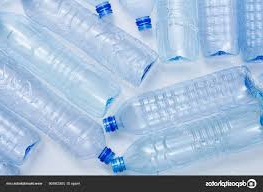plastic water bottle: (1, 1, 159, 86), (104, 65, 261, 137), (1, 87, 121, 170), (113, 125, 262, 175), (153, 1, 217, 67)
